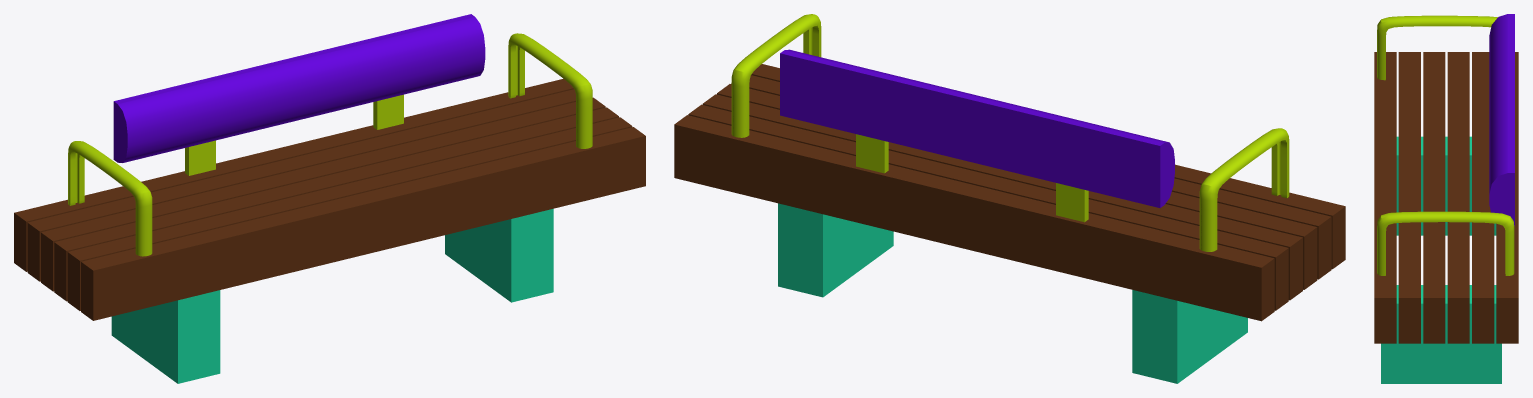
File: lavahka.fbx
3 renders of one model, left to right at view 1: azimuth 30°, elevation 25°; view 2: azimuth 150°, elevation 25°; view 3: azimuth 270°, elevation 25°, orthographic. The views are drawn at different scales.
Visible parts, largest first — view 1: Cube.001; view 2: Cube.001; view 3: Cube.001.
Boxes of the visible parts, bbox=[...] form: Cube.001: bbox=[14, 14, 645, 383]; Cube.001: bbox=[674, 14, 1345, 383]; Cube.001: bbox=[1374, 14, 1518, 383].
Size of the model in its own units: 411 by 161 by 102.
